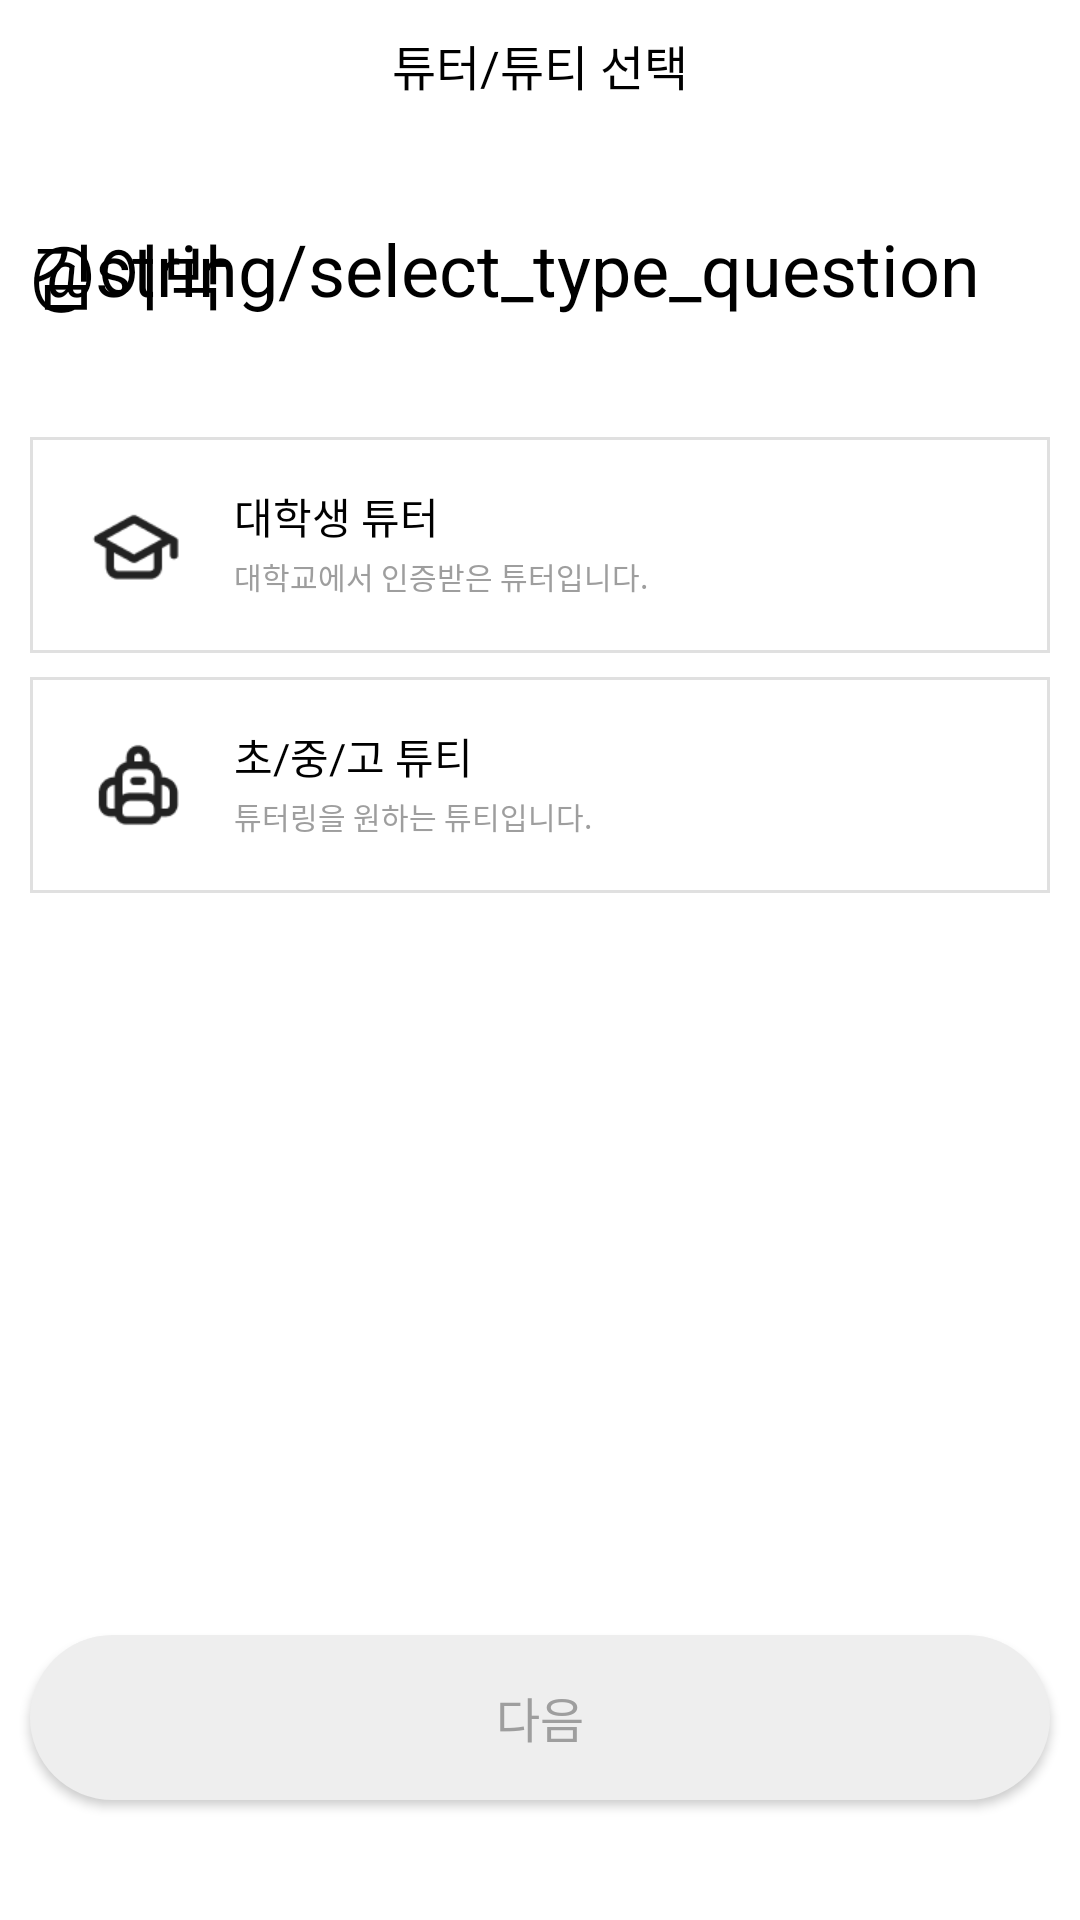

Point at icon controls on the screen. Image size 1080*1920, points as point (x, y).
mortarboard: point (136, 547)
schoolbag: point (138, 785)
